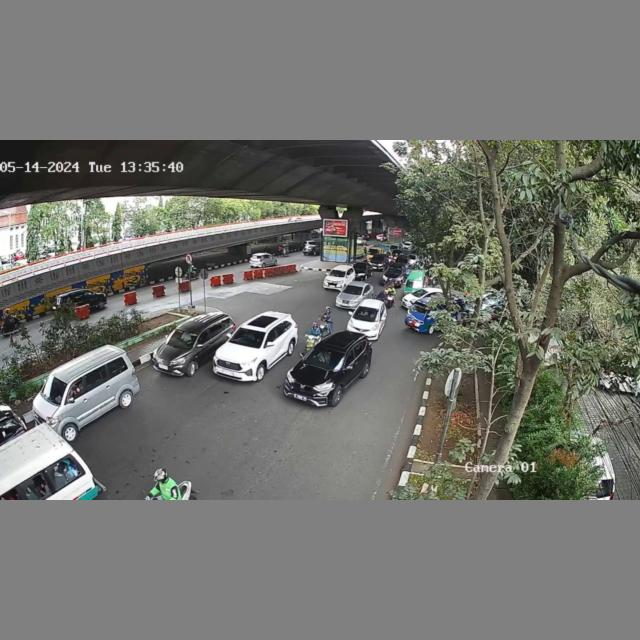windshield: (304, 347, 346, 369), (39, 376, 69, 406), (231, 328, 265, 348), (165, 328, 198, 348), (353, 306, 380, 323)
